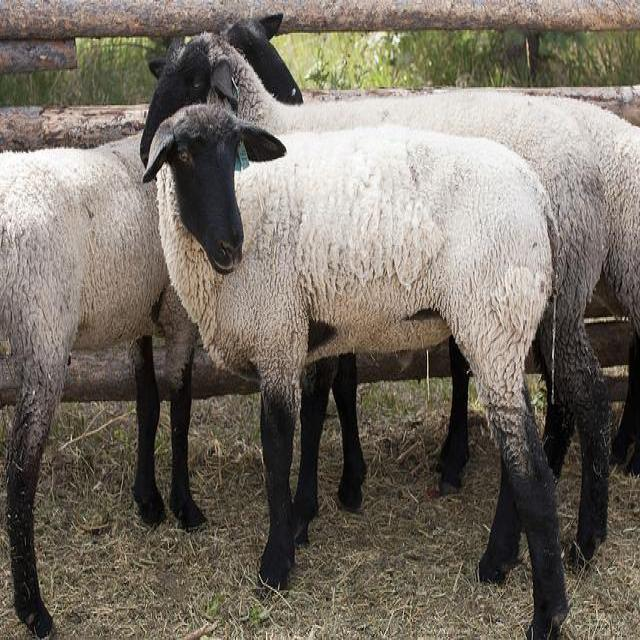Sheep: (141, 33, 616, 568), (141, 104, 572, 638), (1, 14, 305, 634), (508, 93, 639, 478)
